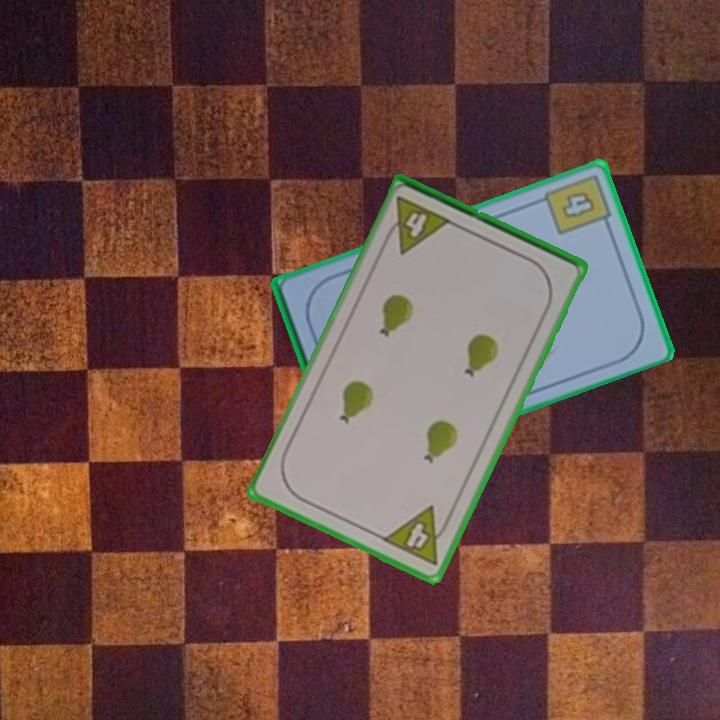4b: (541, 169, 615, 238)
4p: (378, 502, 456, 569), (379, 193, 455, 257)
